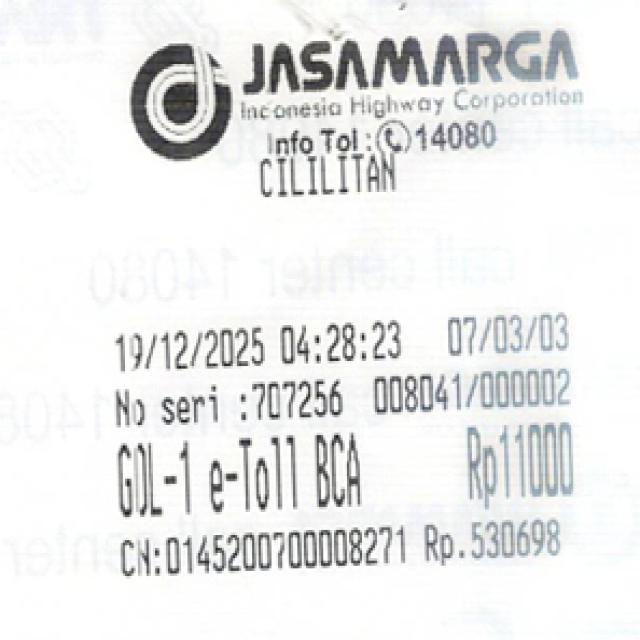date: (108, 321, 413, 372)
store: (221, 32, 590, 96)
total: (432, 422, 583, 498)
